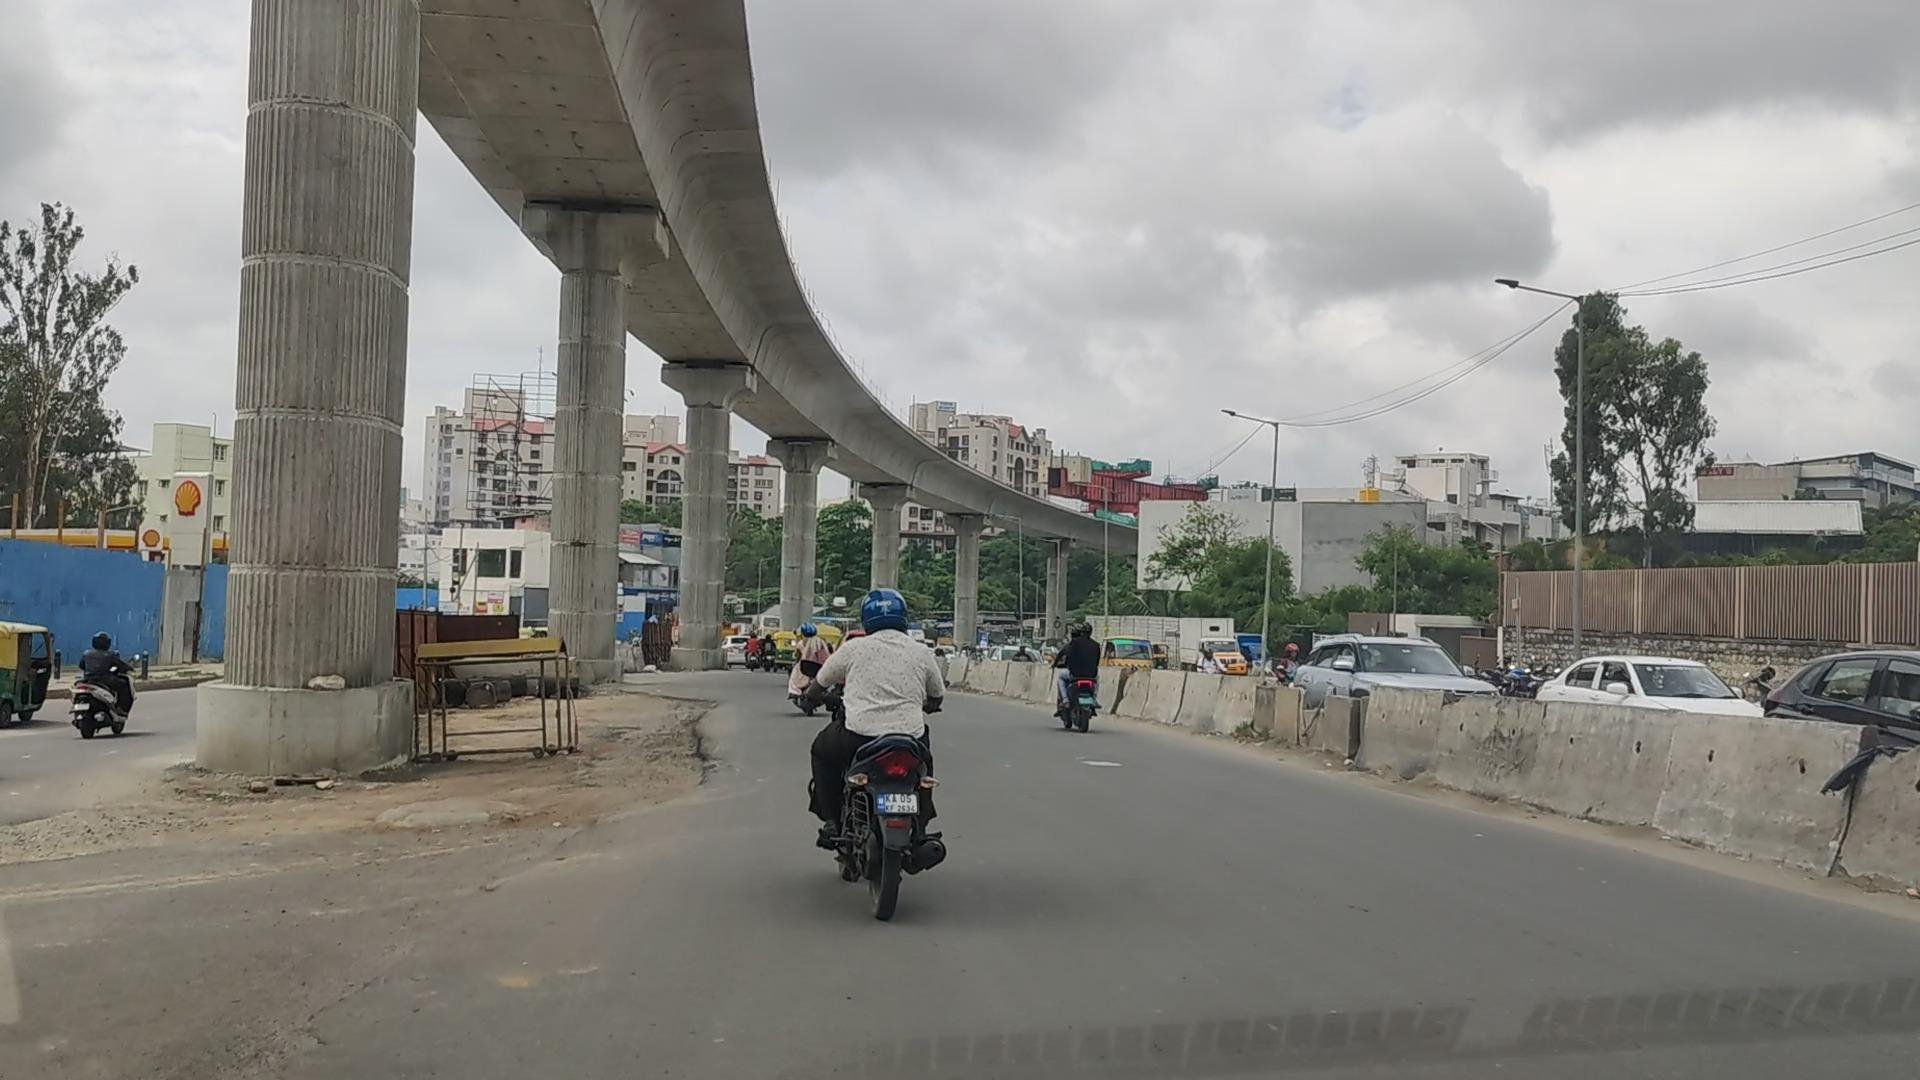LMV: (814, 588, 940, 905), (80, 636, 132, 732), (1054, 624, 1100, 729)
RoadDamages: (22, 782, 554, 890), (284, 909, 462, 1076), (582, 684, 720, 829)
